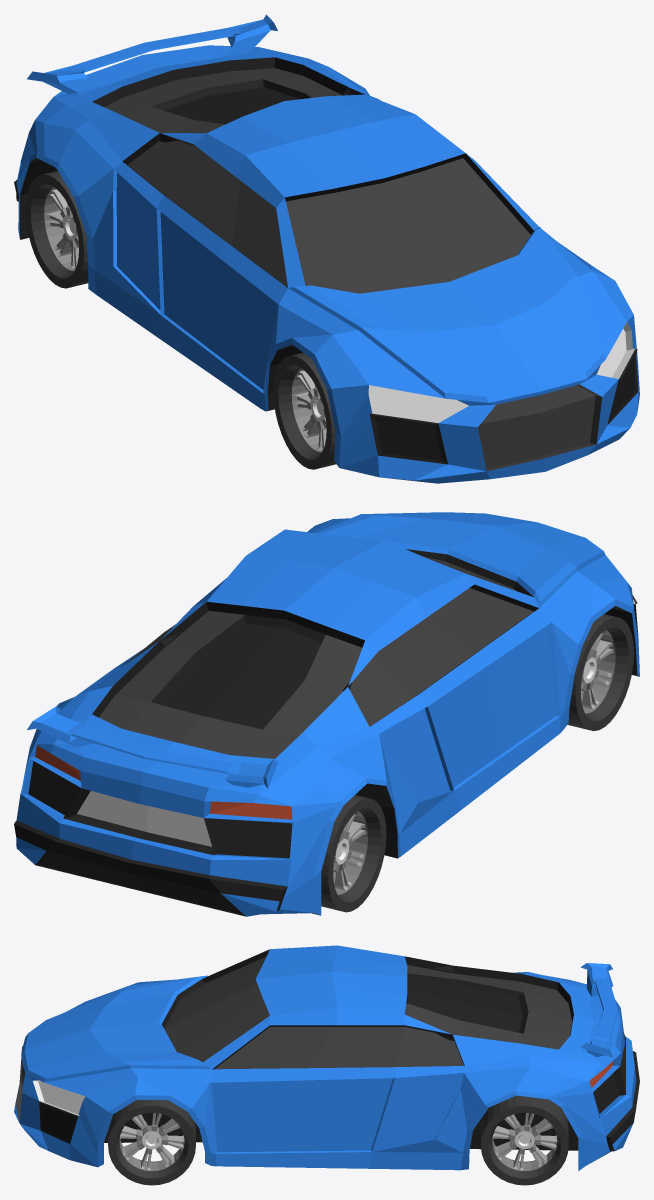
The model's file is audir8v10plusremake.fbx.
3 renders of one model, top to bottom at view 1: azimuth 30°, elevation 25°; view 2: azimuth 150°, elevation 25°; view 3: azimuth 270°, elevation 25°, orthographic. The views are drawn at different scales.
Parts seen in each view (by area): view 1: BlueBody, FrontRight, BackRight; view 2: BlueBody, BackRight, FrontRight; view 3: BlueBody, BackLeft, FrontLeft.
Part boxes in pixels (x1,y1,x2,y2): BlueBody: (14, 14, 639, 483); FrontRight: (273, 352, 336, 469); BackRight: (25, 171, 88, 288); BlueBody: (14, 512, 639, 916); BackRight: (321, 795, 386, 912); FrontRight: (567, 614, 633, 731); BlueBody: (14, 945, 639, 1170); BackLeft: (481, 1095, 568, 1185); FrontLeft: (108, 1100, 195, 1185).
Bounding box in the file's own units: 1.94 × 4.46 × 1.24.
